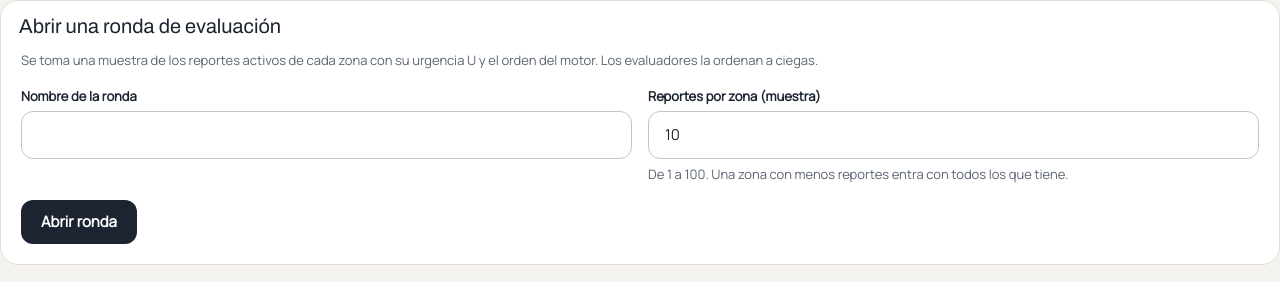
Test: abrir una ronda › no envía dos veces mientras espera la respuesta
Type "Piloto 3" into the field labelled "Nombre de la ronda". click: (326, 134)
box: [21,110,632,158]
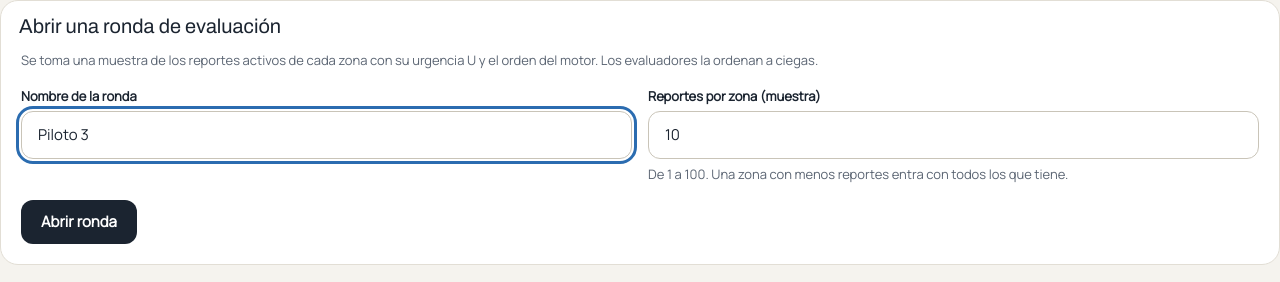
Replace the text in the field labelled "Reportes por zona (muestra)" with "8". click: (954, 134)
box: [648,110,1259,158]
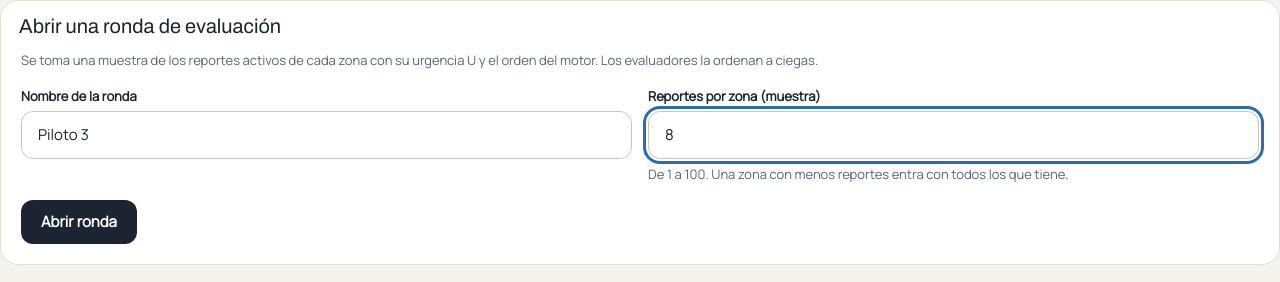
Click the button "Abrir ronda". click: (79, 222)
box: [21,200,137,244]
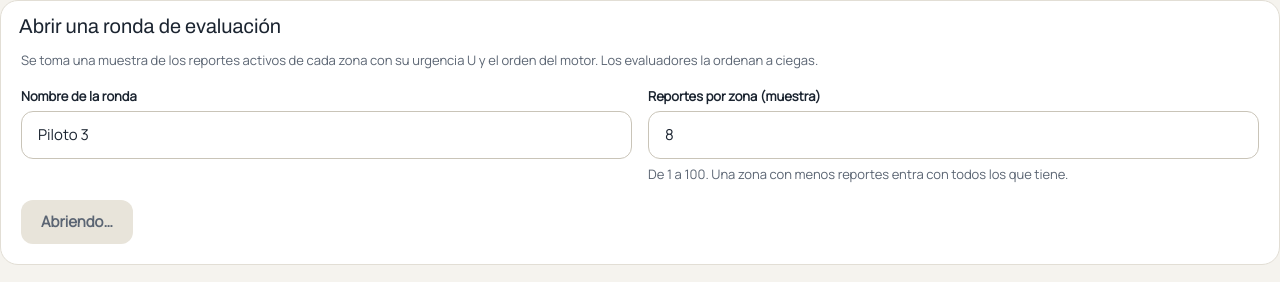
Result: the button "Abriendo…" is disabled at [21,200,133,244]
